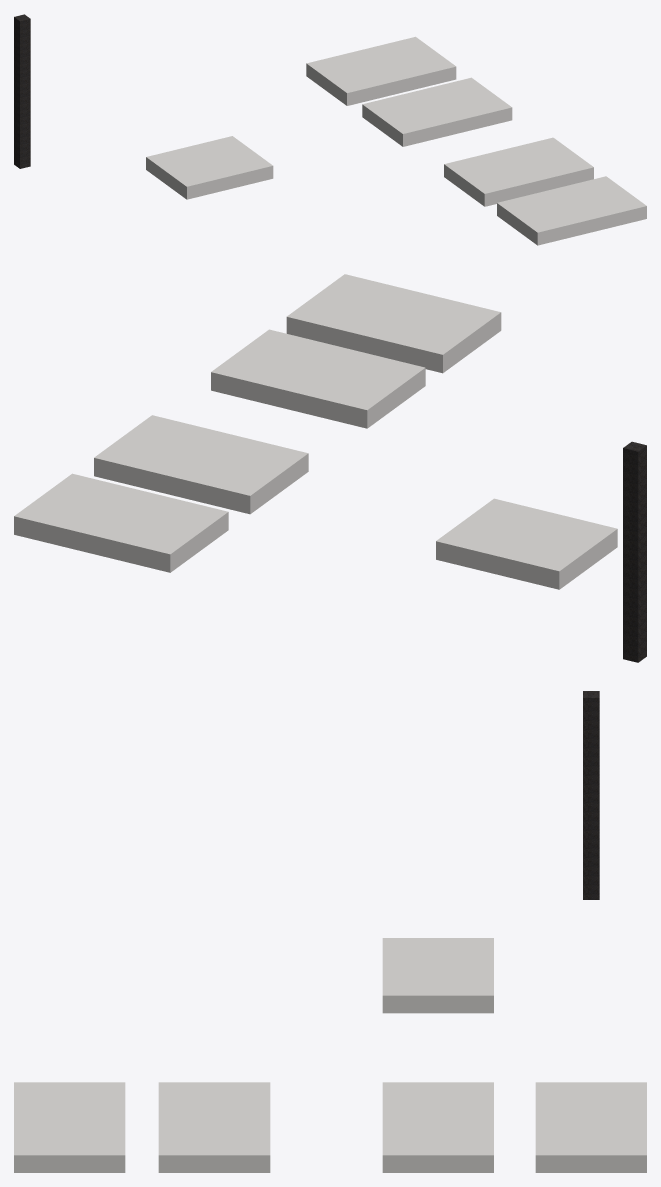
3 renders of one model, top to bottom at view 1: azimuth 30°, elevation 25°; view 2: azimuth 150°, elevation 25°; view 3: azimuth 270°, elevation 25°, orthographic. The views are drawn at different scales.
Visible parts, largest first — view 1: Footing-Rectangular 2000 x3100 x 350mm 3 [683038]001, Footing-Rectangular 2000 x3100 x 350mm 3 [682749]001, Footing-Rectangular 2000 x3100 x 350mm 3 [683298]001, Footing-Rectangular 2000 x3100 x 350mm 3 [683161]001, Footing-Rectangular 2000 x 2450 x 350mm 2 [681510]001, Columns_Rectangular 300 x 300 mm [683734]001; view 2: Footing-Rectangular 2000 x3100 x 350mm 3 [683161]001, Footing-Rectangular 2000 x3100 x 350mm 3 [683038]001, Footing-Rectangular 2000 x3100 x 350mm 3 [682749]001, Footing-Rectangular 2000 x3100 x 350mm 3 [683298]001, Footing-Rectangular 2000 x 2450 x 350mm 2 [681510]001, Columns_Rectangular 300 x 300 mm [683734]001; view 3: Footing-Rectangular 2000 x3100 x 350mm 3 [683161]001, Footing-Rectangular 2000 x3100 x 350mm 3 [682749]001, Footing-Rectangular 2000 x3100 x 350mm 3 [683038]001, Footing-Rectangular 2000 x3100 x 350mm 3 [683298]001, Footing-Rectangular 2000 x 2450 x 350mm 2 [681510]001, Columns_Rectangular 300 x 300 mm [683734]001.
Boxes of the visible parts, box(x1,y1,x2,y2) form: Footing-Rectangular 2000 x3100 x 350mm 3 [683038]001: box(362, 77, 512, 146); Footing-Rectangular 2000 x3100 x 350mm 3 [682749]001: box(306, 36, 456, 105); Footing-Rectangular 2000 x3100 x 350mm 3 [683298]001: box(497, 176, 646, 245); Footing-Rectangular 2000 x3100 x 350mm 3 [683161]001: box(444, 137, 593, 206); Footing-Rectangular 2000 x 2450 x 350mm 2 [681510]001: box(146, 136, 273, 199); Columns_Rectangular 300 x 300 mm [683734]001: box(14, 14, 30, 168); Footing-Rectangular 2000 x3100 x 350mm 3 [683161]001: box(211, 329, 425, 428); Footing-Rectangular 2000 x3100 x 350mm 3 [683038]001: box(94, 415, 308, 514); Footing-Rectangular 2000 x3100 x 350mm 3 [682749]001: box(14, 473, 228, 572); Footing-Rectangular 2000 x3100 x 350mm 3 [683298]001: box(286, 274, 501, 373); Footing-Rectangular 2000 x 2450 x 350mm 2 [681510]001: box(436, 498, 617, 589); Columns_Rectangular 300 x 300 mm [683734]001: box(623, 441, 646, 662); Footing-Rectangular 2000 x3100 x 350mm 3 [683161]001: box(158, 1082, 270, 1172); Footing-Rectangular 2000 x3100 x 350mm 3 [682749]001: box(535, 1082, 646, 1172); Footing-Rectangular 2000 x3100 x 350mm 3 [683038]001: box(382, 1082, 493, 1172); Footing-Rectangular 2000 x3100 x 350mm 3 [683298]001: box(14, 1082, 125, 1172); Footing-Rectangular 2000 x 2450 x 350mm 2 [681510]001: box(382, 938, 493, 1013); Columns_Rectangular 300 x 300 mm [683734]001: box(583, 691, 599, 899).
Bounding box in the file's own units: 11.88 × 4 × 11.36.
2 materials, 1 textured.
